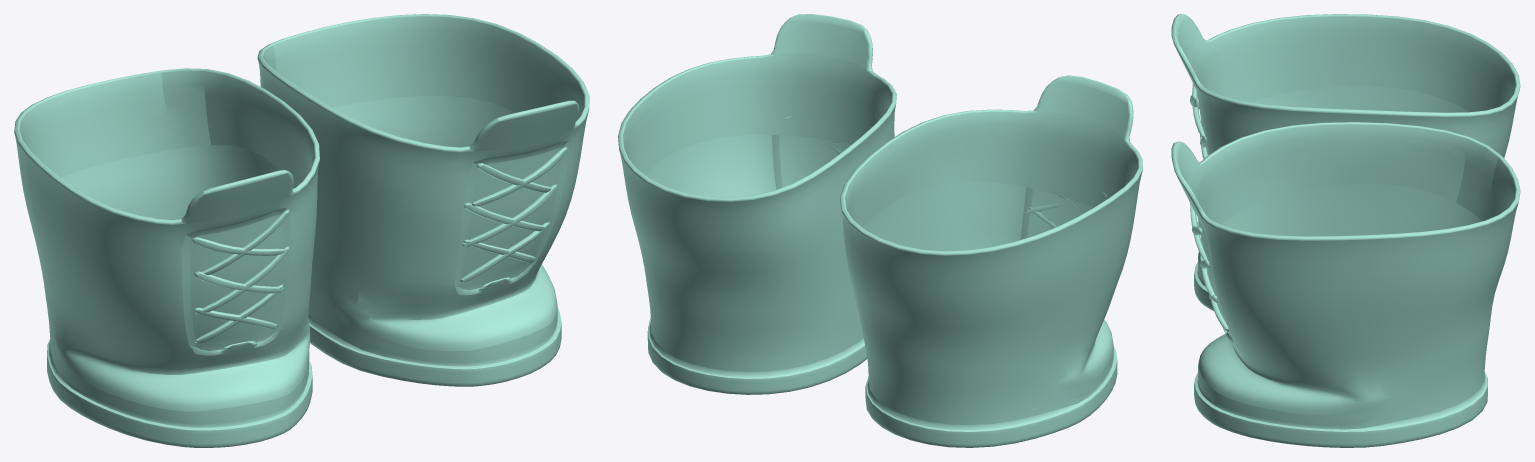
Rendered from Boots02_nolace (1).fbx.
The picture shows the model from 3 angles, left to right: view 1: azimuth 30°, elevation 25°; view 2: azimuth 150°, elevation 25°; view 3: azimuth 270°, elevation 25°; orthographic projection. The views are drawn at different scales.
Parts seen in each view (by area): view 1: Boots_b_nolace; view 2: Boots_b_nolace; view 3: Boots_b_nolace.
Part boxes in pixels (x1,y1,x2,y2): Boots_b_nolace: (14, 14, 589, 447); Boots_b_nolace: (618, 14, 1142, 447); Boots_b_nolace: (1171, 14, 1520, 447).
Size of the model in its own units: 103 by 54.5 by 67.36.
